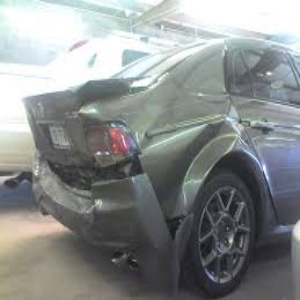bumper: (26, 166, 185, 285)
